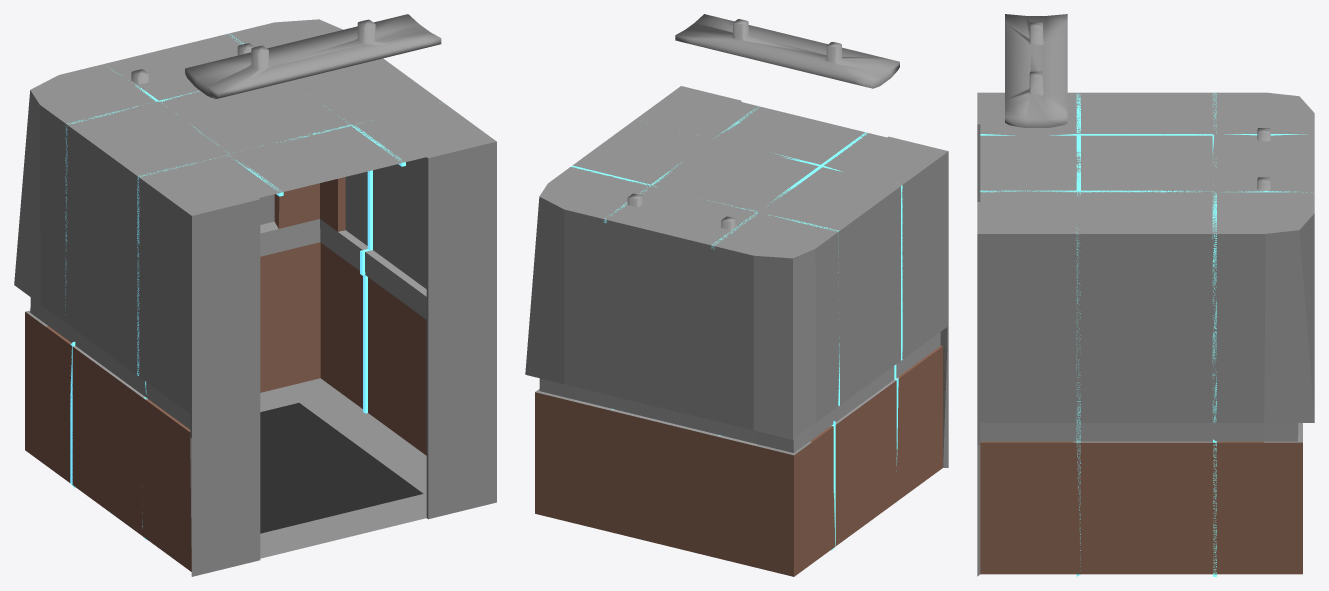
Rendered from Overhead_Lights.fbx.
3 views of the same model, side by side, from view 1: azimuth 30°, elevation 25°; view 2: azimuth 150°, elevation 25°; view 3: azimuth 270°, elevation 25° (orthographic). The views are drawn at different scales.
Visible parts, largest first — view 1: Elevator, Lights; view 2: Elevator, Lights; view 3: Elevator, Lights.
Part boxes in pixels (x1=…): Elevator: x1=14, y1=14, x2=496, y2=576; Lights: x1=65, y1=34, x2=405, y2=540; Elevator: x1=525, y1=14, x2=948, y2=576; Lights: x1=571, y1=106, x2=902, y2=550; Elevator: x1=977, y1=14, x2=1314, y2=576; Lights: x1=980, y1=92, x2=1313, y2=576.
Size of the model in its own units: 200 by 304 by 202.
